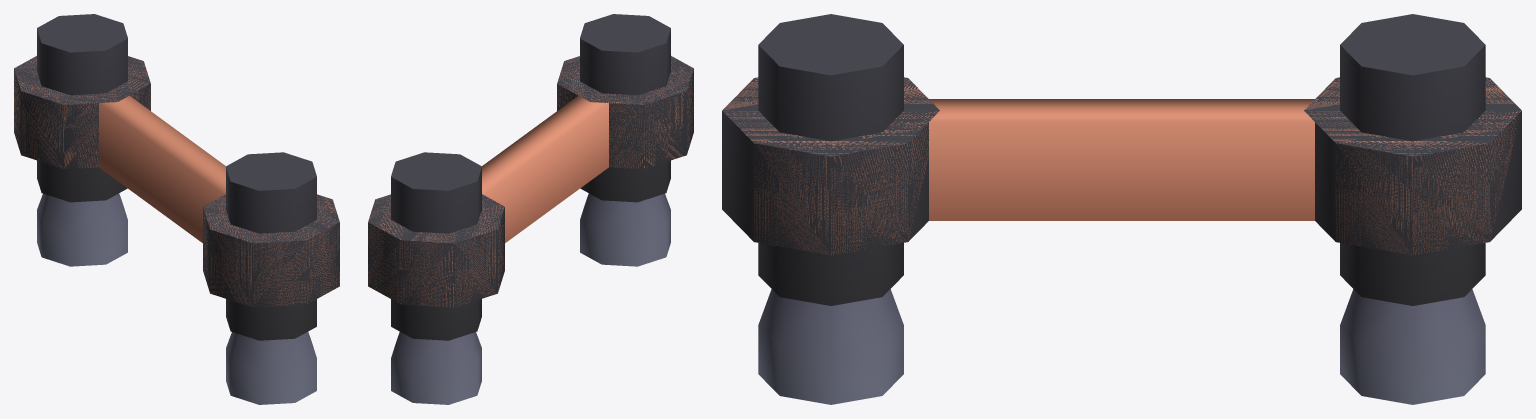
The model's file is structure-short.obj.
3 renders of one model, left to right at view 1: azimuth 30°, elevation 25°; view 2: azimuth 150°, elevation 25°; view 3: azimuth 270°, elevation 25°, orthographic. The views are drawn at different scales.
Parts seen in each view (by area): view 1: structure-short; view 2: structure-short; view 3: structure-short.
Part boxes in pixels (box(x1,y1,x2,y2)): structure-short: box(14, 14, 339, 404); structure-short: box(368, 14, 693, 404); structure-short: box(722, 14, 1521, 404).
Bounding box in the file's own units: 0.3 × 0.5 × 1.1.
